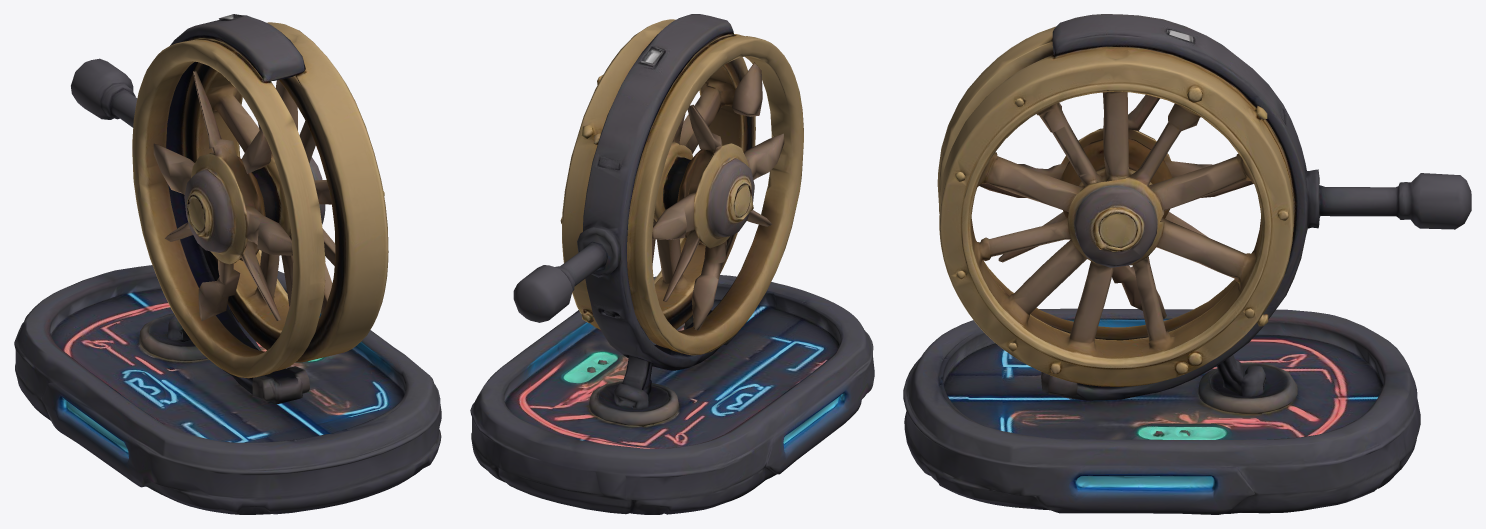
Rendered from momentum.glb.
The picture shows the model from 3 angles, left to right: view 1: azimuth 30°, elevation 25°; view 2: azimuth 150°, elevation 25°; view 3: azimuth 270°, elevation 25°; orthographic projection. The views are drawn at different scales.
Visible parts, largest first — view 1: tripo_node_a341cbd7-55dd-43a1-ba16-690f3e11ef8b; view 2: tripo_node_a341cbd7-55dd-43a1-ba16-690f3e11ef8b; view 3: tripo_node_a341cbd7-55dd-43a1-ba16-690f3e11ef8b.
Boxes of the visible parts, left/top/right/bottom form: tripo_node_a341cbd7-55dd-43a1-ba16-690f3e11ef8b: left=14, top=14, right=441, bottom=514; tripo_node_a341cbd7-55dd-43a1-ba16-690f3e11ef8b: left=470, top=14, right=874, bottom=514; tripo_node_a341cbd7-55dd-43a1-ba16-690f3e11ef8b: left=903, top=14, right=1471, bottom=514.
Bounding box in the file's own units: 0.6109 × 0.805 × 0.9796.
Materials: 1 (1 with a texture image).
